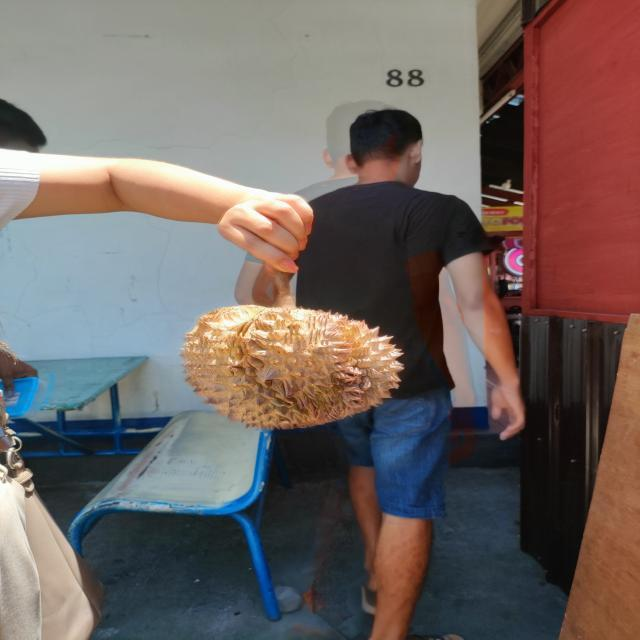mature: (179, 303, 406, 431)
